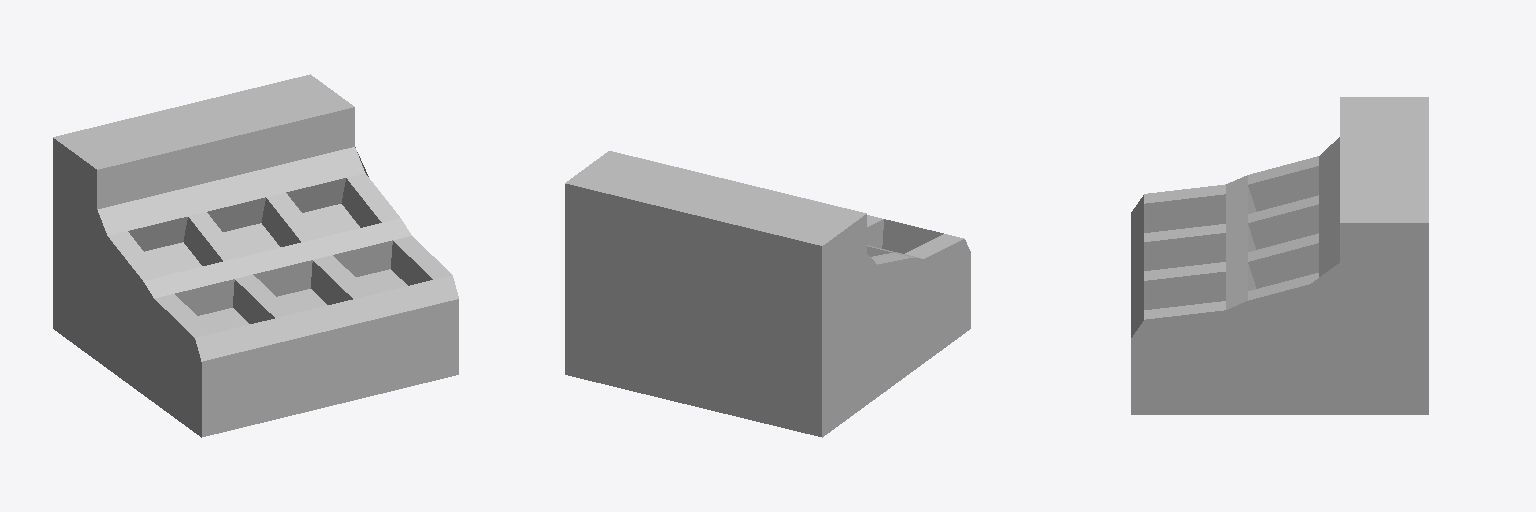
The model's file is fruitstand.obj.
3 views of the same model, side by side, from view 1: azimuth 30°, elevation 25°; view 2: azimuth 150°, elevation 25°; view 3: azimuth 270°, elevation 25° (orthographic).
Parts seen in each view (by area): view 1: pCube1; view 2: pCube1; view 3: pCube1.
Part boxes in pixels (x1,y1,x2,y2): pCube1: (53,74,458,437); pCube1: (565,151,970,437); pCube1: (1131,97,1428,414).
Bounding box in the file's own units: 4.47 × 3.17 × 4.47.